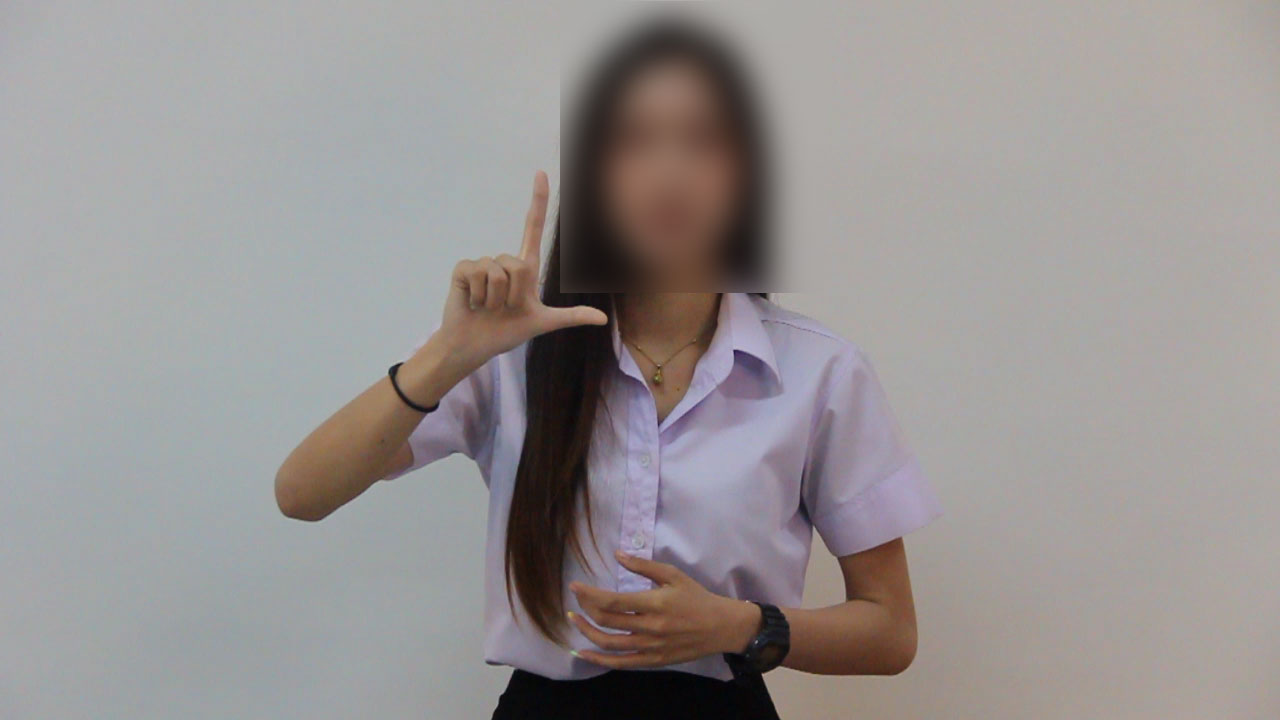lor: (374, 145, 618, 377)
